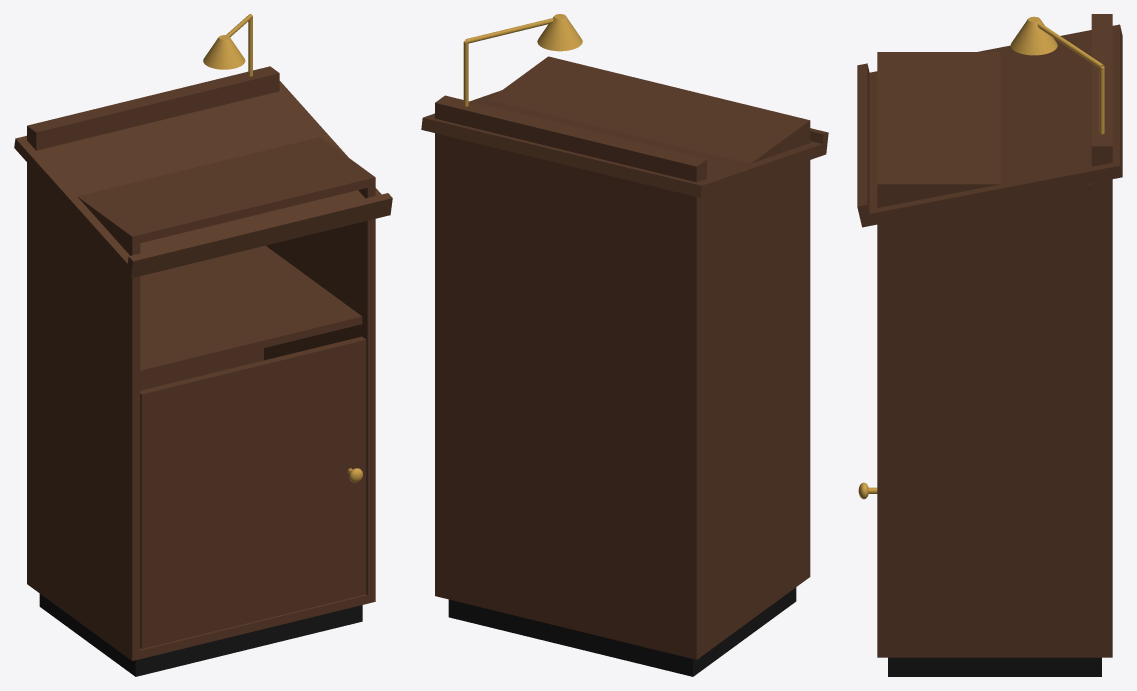
The model's file is 067_host_hostess_stand.glb.
3 renders of one model, left to right at view 1: azimuth 30°, elevation 25°; view 2: azimuth 150°, elevation 25°; view 3: azimuth 270°, elevation 25°, orthographic. The views are drawn at different scales.
Parts seen in each view (by area): view 1: 006_door_panel, 000_carcass_side_l, 012_sloped_writing_top, 011_menu_shelf, 002_carcass_top, 001_carcass_side_r, 014_top_riser, 005_plinth, 013_pen_ledge, 003_carcass_bottom, 004_carcass_back_panel, 017_reading_light_shade; view 2: 004_carcass_back_panel, 000_carcass_side_l, 002_carcass_top, 014_top_riser, 012_sloped_writing_top, 005_plinth, 001_carcass_side_r, 017_reading_light_shade; view 3: 001_carcass_side_r, 012_sloped_writing_top, 002_carcass_top, 005_plinth, 014_top_riser, 013_pen_ledge, 017_reading_light_shade, 016_reading_light_boom.
Boxes of the visible parts, x1=… form: 006_door_panel: x1=140, y1=336, x2=366, y2=648; 000_carcass_side_l: x1=27, y1=162, x2=140, y2=660; 012_sloped_writing_top: x1=14, y1=81, x2=391, y2=278; 011_menu_shelf: x1=140, y1=245, x2=362, y2=378; 002_carcass_top: x1=27, y1=137, x2=375, y2=244; 001_carcass_side_r: x1=264, y1=137, x2=375, y2=603; 014_top_riser: x1=27, y1=66, x2=279, y2=150; 005_plinth: x1=39, y1=594, x2=362, y2=676; 013_pen_ledge: x1=127, y1=193, x2=392, y2=268; 003_carcass_bottom: x1=140, y1=594, x2=367, y2=658; 004_carcass_back_panel: x1=140, y1=348, x2=263, y2=390; 017_reading_light_shade: x1=203, y1=35, x2=245, y2=69; 004_carcass_back_panel: x1=443, y1=151, x2=687, y2=657; 000_carcass_side_l: x1=688, y1=118, x2=810, y2=659; 002_carcass_top: x1=435, y1=56, x2=809, y2=211; 014_top_riser: x1=435, y1=95, x2=706, y2=203; 012_sloped_writing_top: x1=421, y1=90, x2=827, y2=197; 005_plinth: x1=448, y1=587, x2=796, y2=676; 001_carcass_side_r: x1=435, y1=56, x2=556, y2=597; 017_reading_light_shade: x1=537, y1=14, x2=582, y2=51; 001_carcass_side_r: x1=877, y1=180, x2=1112, y2=657; 012_sloped_writing_top: x1=859, y1=24, x2=1122, y2=227; 002_carcass_top: x1=877, y1=52, x2=1112, y2=193; 005_plinth: x1=888, y1=657, x2=1101, y2=676; 014_top_riser: x1=1091, y1=14, x2=1112, y2=184; 013_pen_ledge: x1=857, y1=63, x2=869, y2=215; 017_reading_light_shade: x1=1010, y1=16, x2=1057, y2=55; 016_reading_light_boom: x1=1037, y1=22, x2=1103, y2=67.
Size of the model in its own units: 0.64 by 1.3 by 0.5082.
